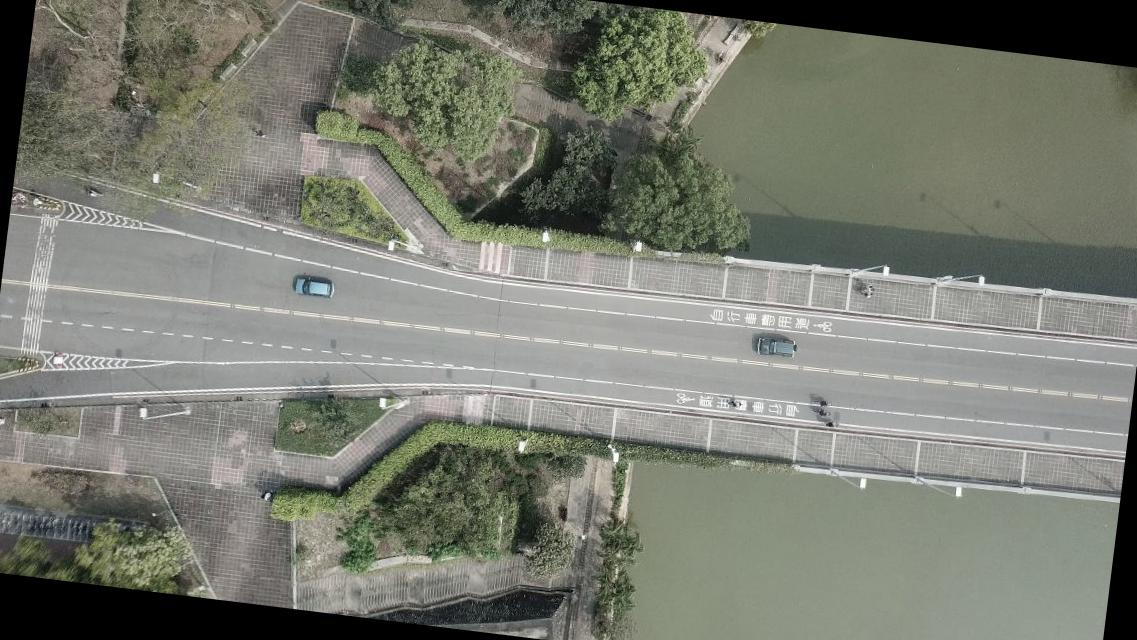vehicle: (754, 335, 796, 358), (293, 276, 335, 298)
